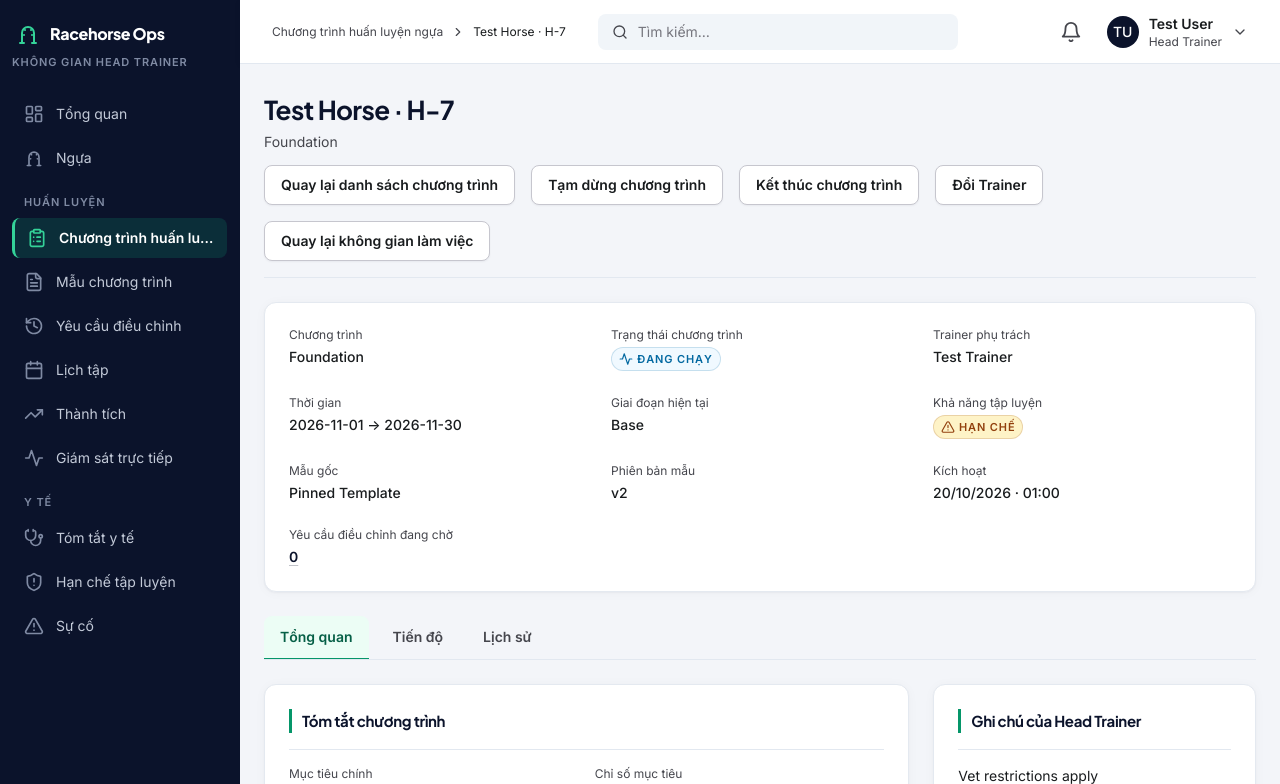
Test: loads approved progress/history on demand without inventing totals or requiring management endpoints
Expected: the text "Pinned Template" is shown, [289,484,401,502]
What coordinates should you click on to do the following:
click the tab "Tiến độ"
I would click on:
 (418, 638)
Its box is [376,616,459,660].
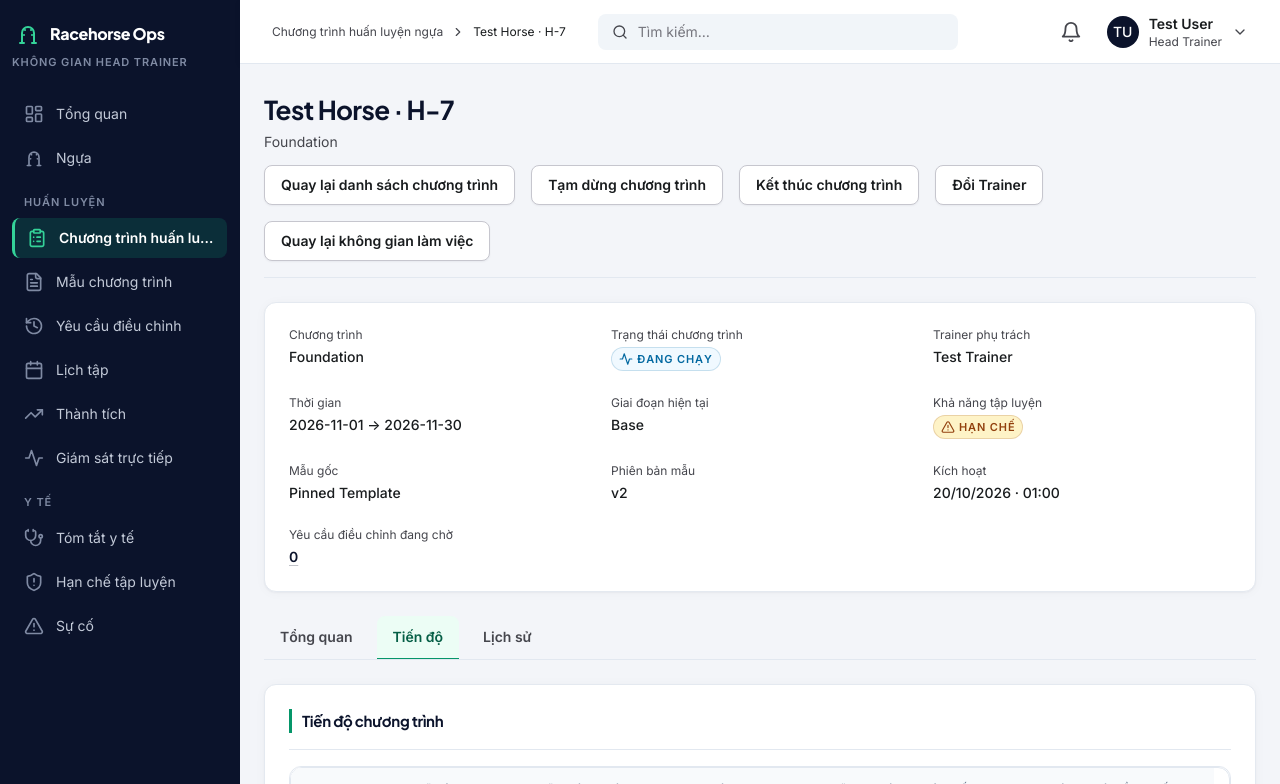
What coordinates should you click on to do the following:
click the tab "Lịch sử"
I would click on:
 (507, 638)
Its box is [467,616,548,660].
(page scrolled)
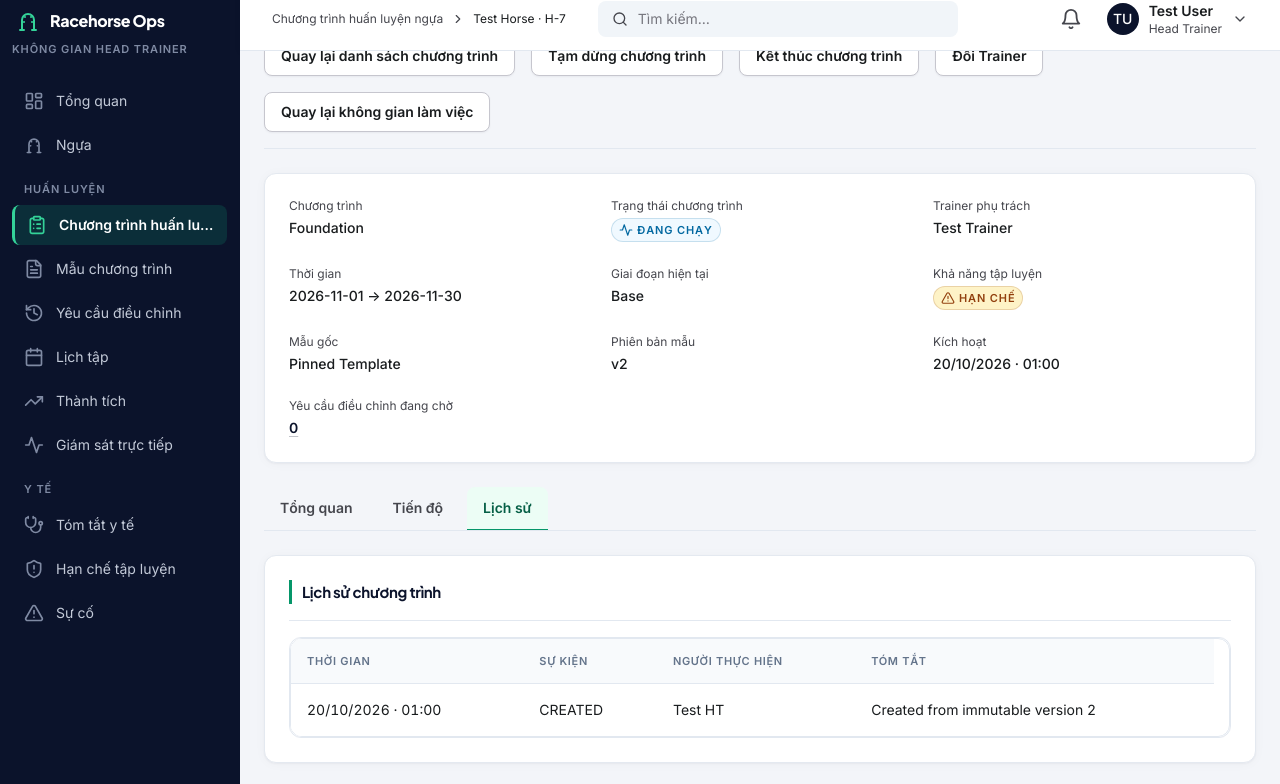
Expected: the text "Created from immutable version 2" is shown, [855,684,1214,736]
Expected: the text "Test HT" is shown, [657,684,855,736]
